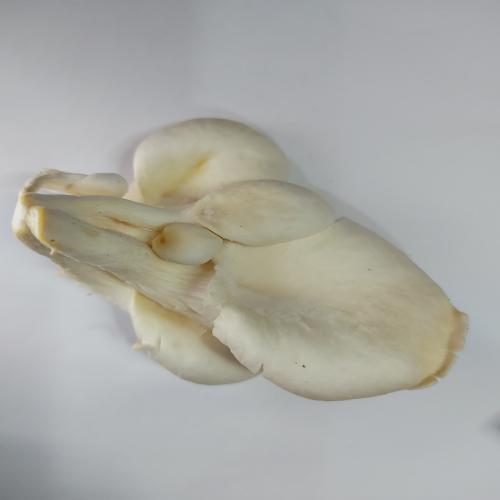Oyster Mushroom: (11, 117, 470, 401)
